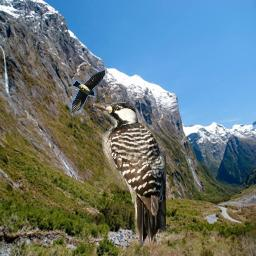Swallow: (70, 69, 105, 116)
Woodpecker: (93, 102, 166, 248)
